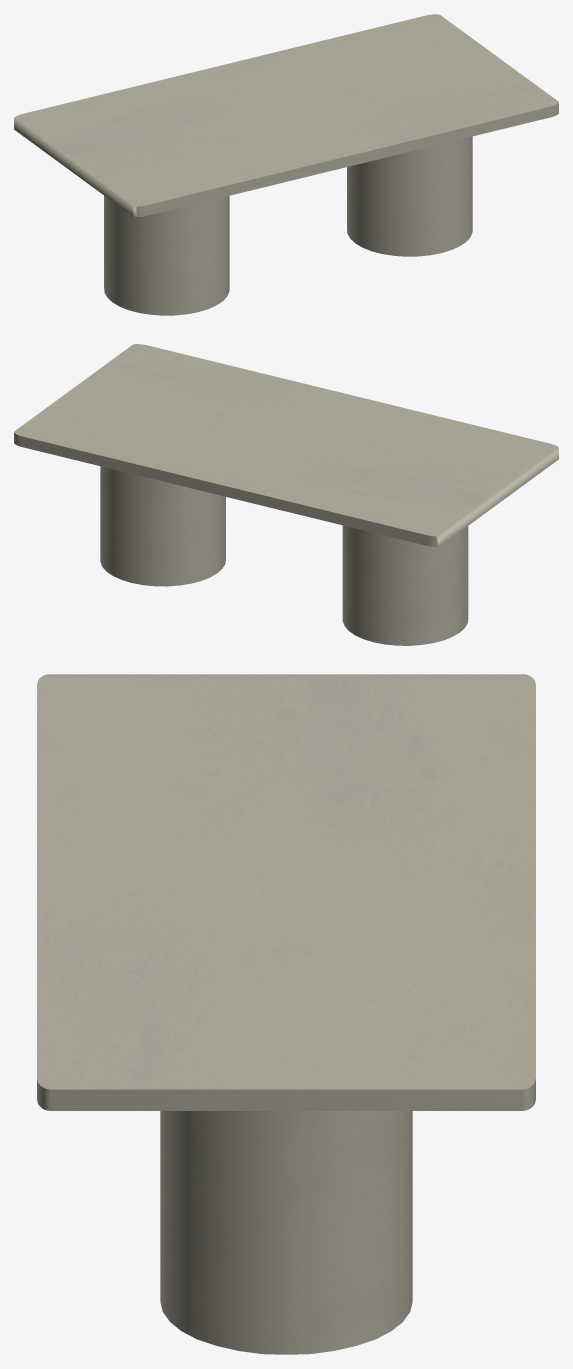
Rendered from silk_softrecta_standard_stream.glb.
The picture shows the model from 3 angles, top to bottom: view 1: azimuth 30°, elevation 25°; view 2: azimuth 150°, elevation 25°; view 3: azimuth 270°, elevation 25°; orthographic projection. The views are drawn at different scales.
Visible parts, largest first — view 1: silk_softrectastandard_stream; view 2: silk_softrectastandard_stream; view 3: silk_softrectastandard_stream.
Boxes of the visible parts, x1,y1,x2,y2 form: silk_softrectastandard_stream: (14,14,558,315); silk_softrectastandard_stream: (14,344,558,645); silk_softrectastandard_stream: (37,674,535,1354).
Bounding box in the file's own units: 7.5 × 2.52 × 3.8.
1 material, 1 textured.
